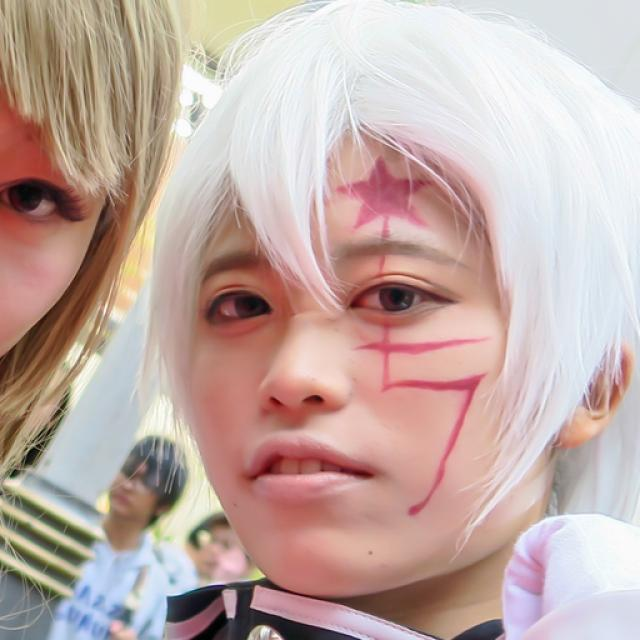neutral: (190, 127, 552, 600)
